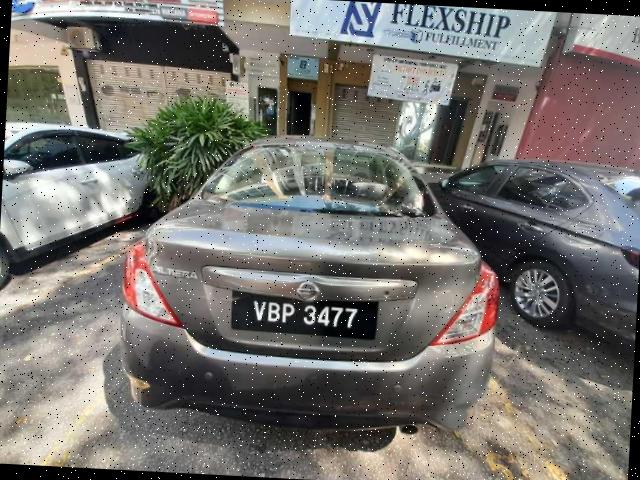License_Plate: (230, 293, 380, 341)
car: (115, 127, 509, 441)
